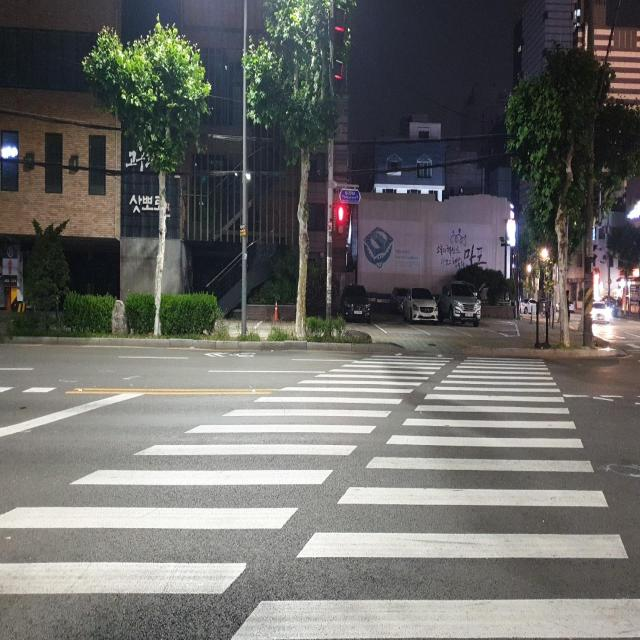빨간불: (334, 203, 349, 248)
횡단보도: (0, 346, 639, 640)
